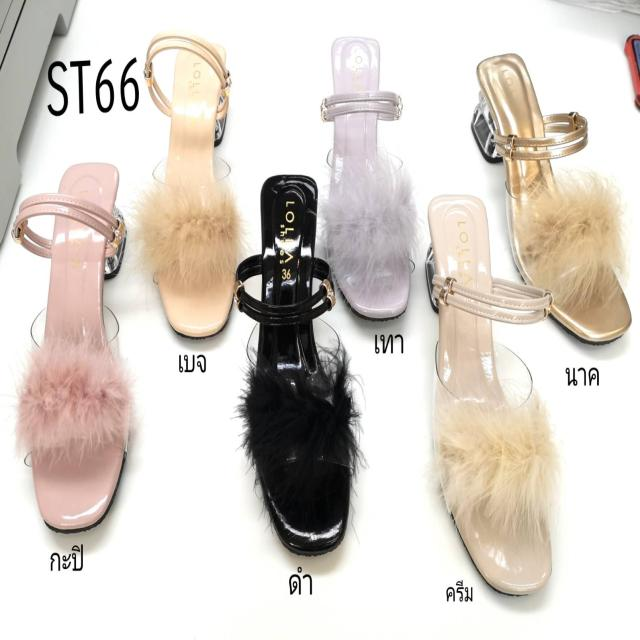bej: (156, 39, 232, 338)
black: (258, 172, 351, 554)
cream: (429, 200, 553, 605)
grey: (329, 32, 410, 327)
kapi: (33, 159, 128, 532)
nak: (482, 54, 626, 350)
